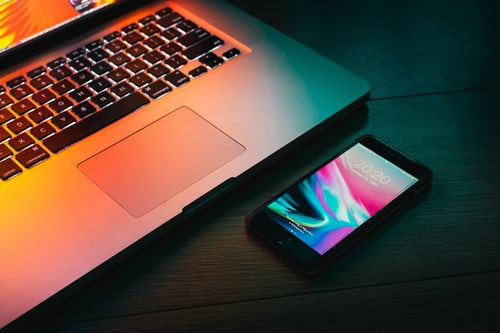phone: (236, 137, 429, 279)
